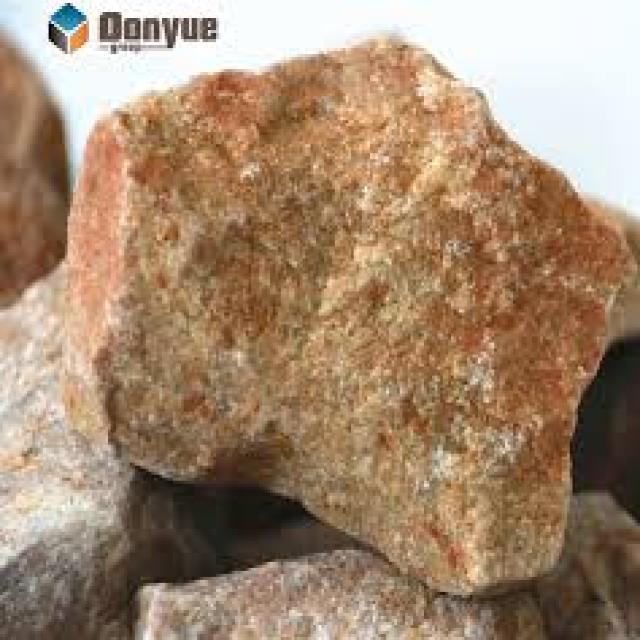Metamorphic: (84, 57, 621, 586)
